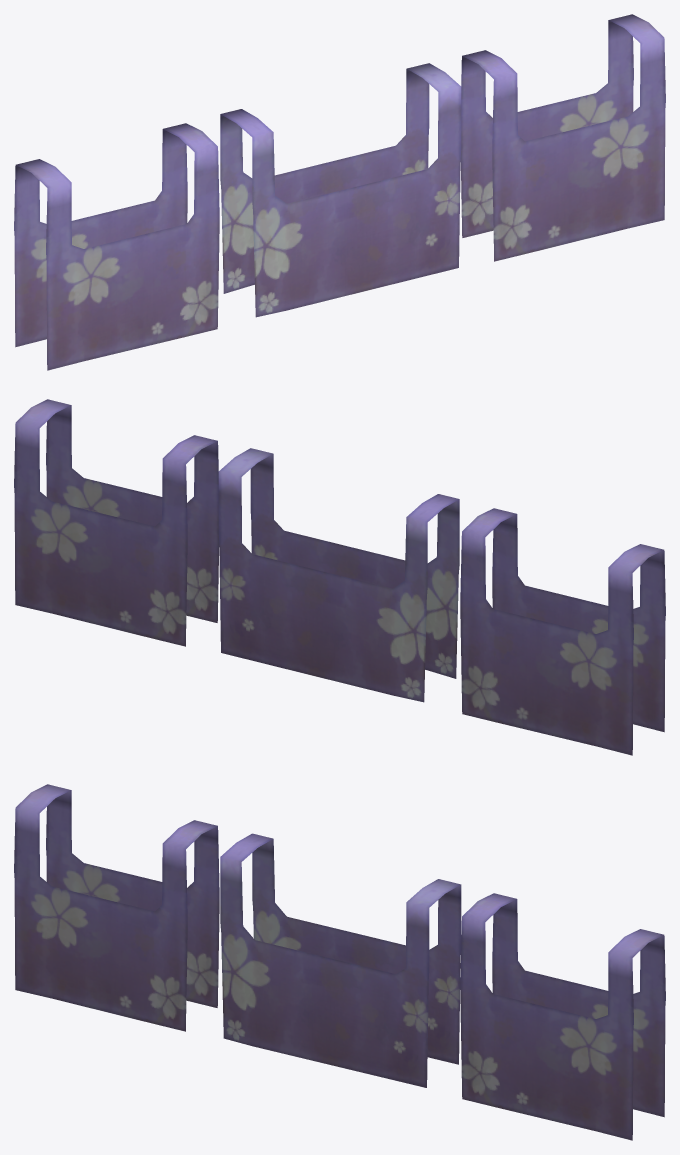
Rendered from Homeworld_Exterior_Dq_Build_TanWei_02_C_Vo.fbx.
3 renders of one model, top to bottom at view 1: azimuth 30°, elevation 25°; view 2: azimuth 150°, elevation 25°; view 3: azimuth 330°, elevation 25°, orthographic.
Visible parts, largest first — view 1: Homeworld_Exterior_Dq_Build_TanWei_02_C_Vo; view 2: Homeworld_Exterior_Dq_Build_TanWei_02_C_Vo; view 3: Homeworld_Exterior_Dq_Build_TanWei_02_C_Vo.
Part boxes in pixels (x1,y1,x2,y2): Homeworld_Exterior_Dq_Build_TanWei_02_C_Vo: (14, 14, 665, 370); Homeworld_Exterior_Dq_Build_TanWei_02_C_Vo: (14, 399, 665, 755); Homeworld_Exterior_Dq_Build_TanWei_02_C_Vo: (14, 784, 665, 1140).
Size of the model in its own units: 1.86 by 0.535 by 0.1794.
